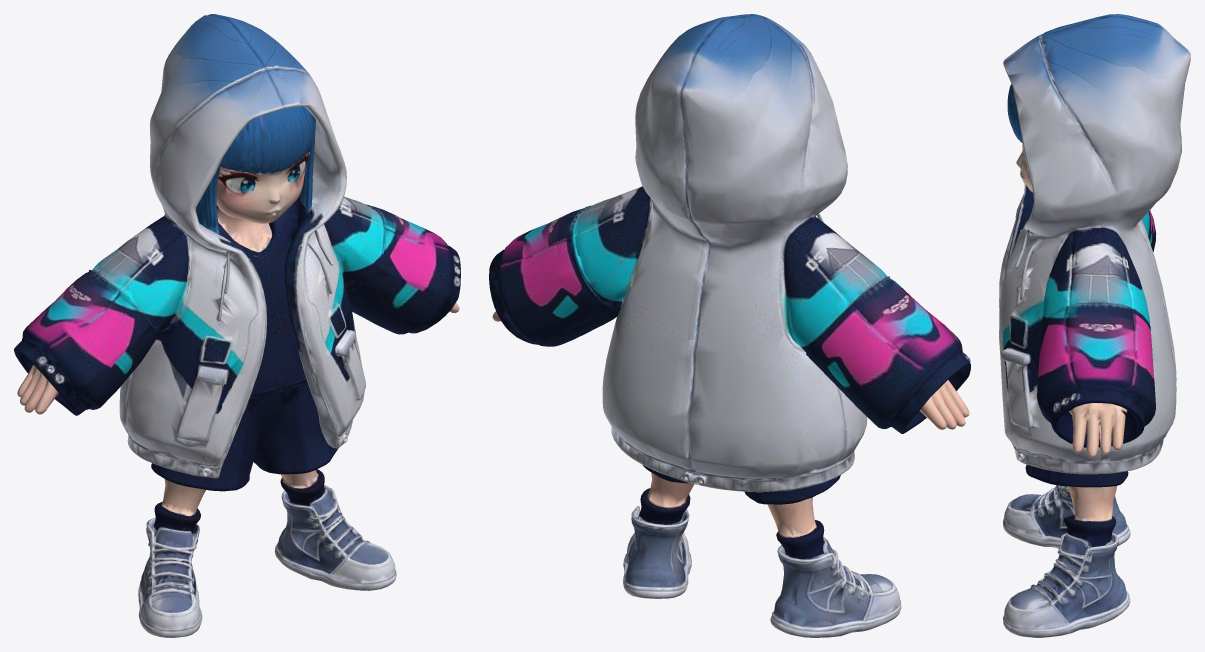
The model's file is sd_girl.glb.
3 renders of one model, left to right at view 1: azimuth 30°, elevation 25°; view 2: azimuth 150°, elevation 25°; view 3: azimuth 270°, elevation 25°, orthographic. The views are drawn at different scales.
Bounding box in the file's own units: 1.54 × 1.9 × 0.587.
1 material, 1 textured.
